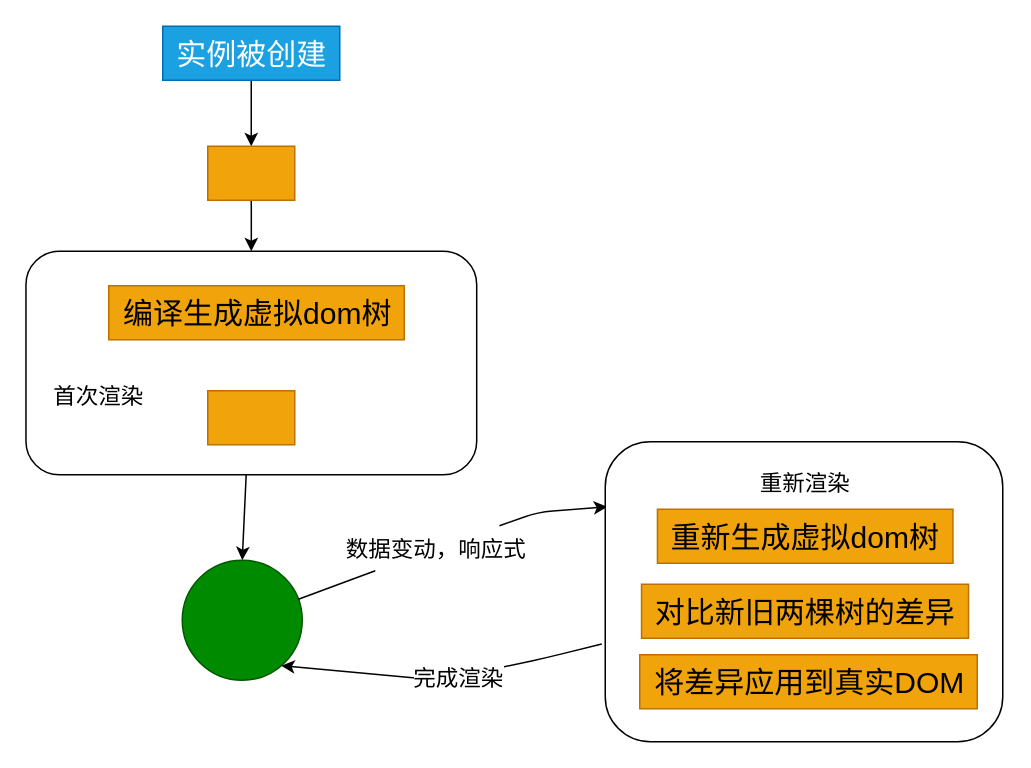
The diagram is 1031 pixels wide and 768 high, and some of its shapes have lost their labels. The box of each missing label's shape, as (x1, y1, x2, y2) in pixels:
已挂载: (181, 559, 302, 680)
挂载: (206, 389, 295, 445)
注入: (206, 145, 295, 200)
